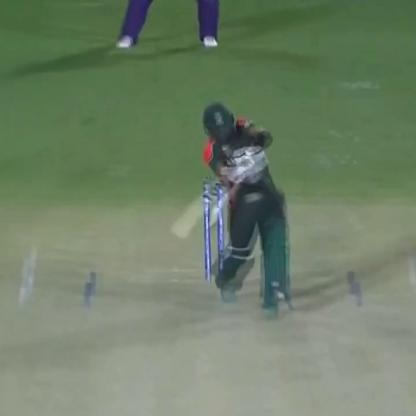ball: (241, 187, 262, 208)
bat: (172, 161, 254, 238)
pitch: (6, 212, 414, 410)
